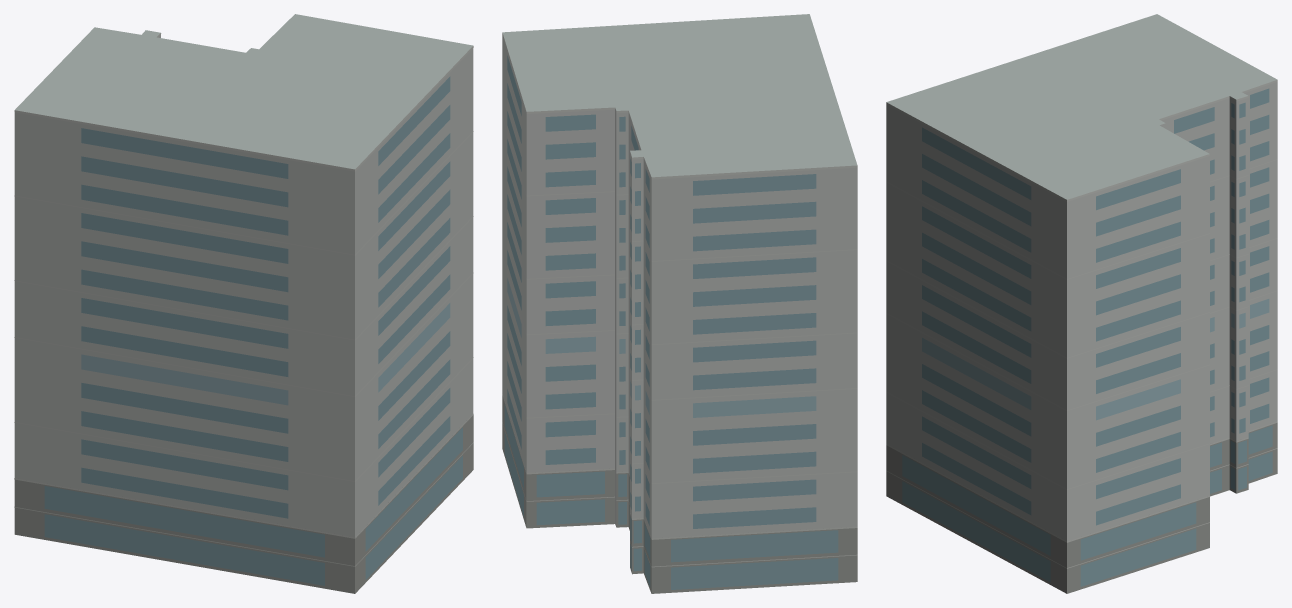
File: survey-upis-32790325.glb
3 views of the same model, side by side, from view 1: azimuth 30°, elevation 25°; view 2: azimuth 150°, elevation 25°; view 3: azimuth 270°, elevation 25° (orthographic). The views are drawn at different scales.
Visible parts, largest first — view 1: survey-upis-32790325.tmp; view 2: survey-upis-32790325.tmp; view 3: survey-upis-32790325.tmp.
Part boxes in pixels (left/top/right/bottom): survey-upis-32790325.tmp: left=14, top=14, right=473, bottom=593; survey-upis-32790325.tmp: left=502, top=14, right=857, bottom=593; survey-upis-32790325.tmp: left=886, top=14, right=1277, bottom=593.
Bounding box in the file's own units: 46.31 × 45.75 × 41.21.
